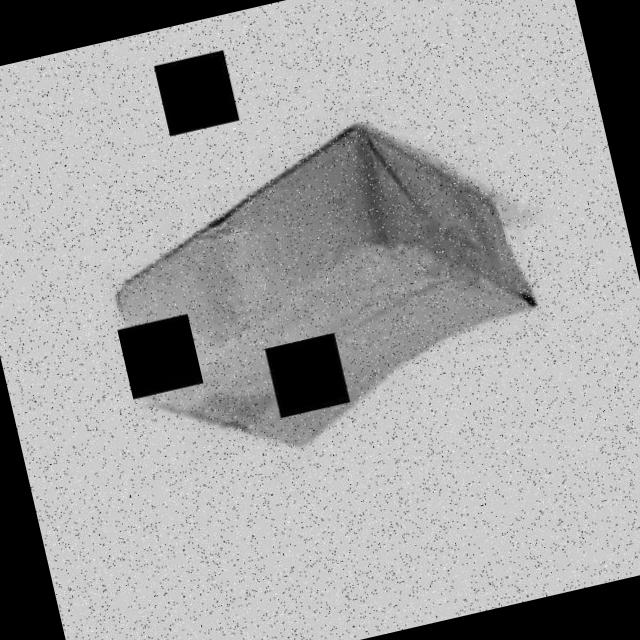box: (77, 96, 558, 481)
